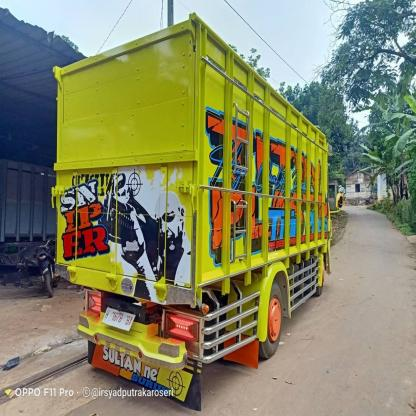truck: (50, 12, 343, 412)
